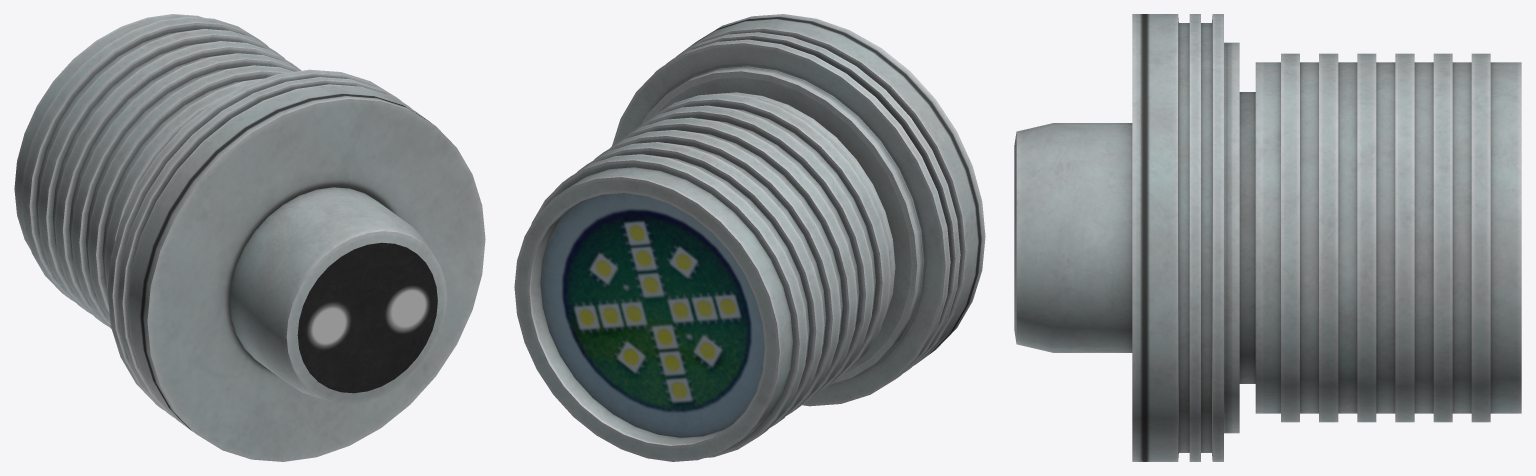
The model's file is ch1_lamps_LED_location.fbx.
The picture shows the model from 3 angles, left to right: view 1: azimuth 30°, elevation 25°; view 2: azimuth 150°, elevation 25°; view 3: azimuth 270°, elevation 25°; orthographic projection. The views are drawn at different scales.
Visible parts, largest first — view 1: TrafficLight_Lamp_01LED; view 2: TrafficLight_Lamp_01LED; view 3: TrafficLight_Lamp_01LED.
Boxes of the visible parts, box(x1,y1,x2,y2) form: TrafficLight_Lamp_01LED: box(14, 14, 485, 461); TrafficLight_Lamp_01LED: box(514, 14, 985, 461); TrafficLight_Lamp_01LED: box(1014, 14, 1521, 461).
Bounding box in the file's own units: 0.0364 × 0.0364 × 0.0412.
